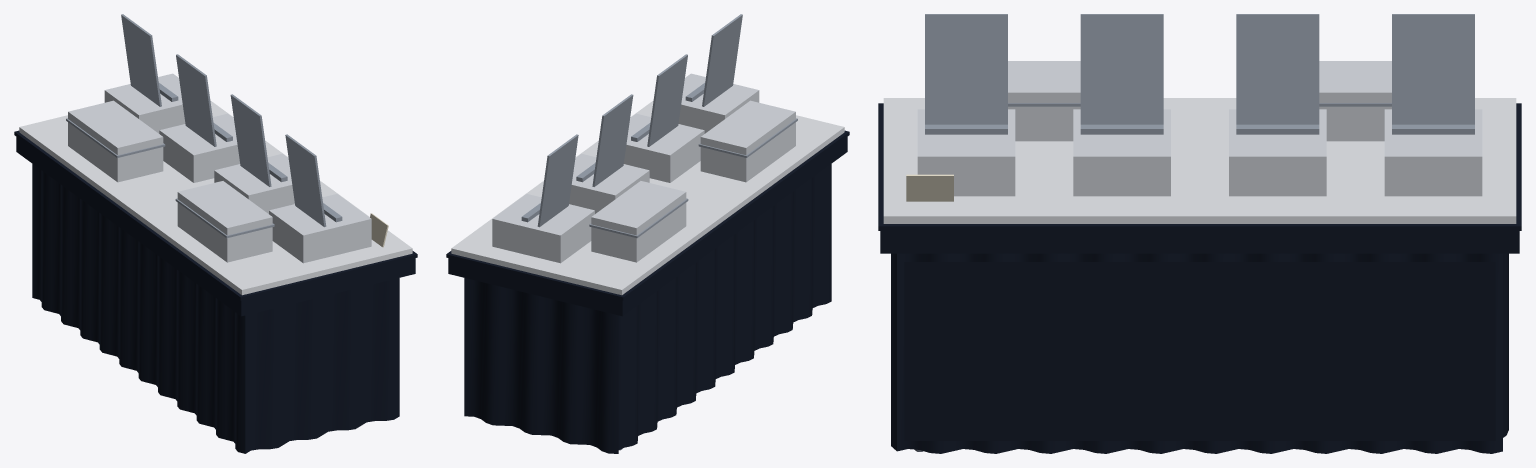
The model's file is table.glb.
The picture shows the model from 3 angles, left to right: view 1: azimuth 30°, elevation 25°; view 2: azimuth 150°, elevation 25°; view 3: azimuth 270°, elevation 25°; orthographic projection. The views are drawn at different scales.
Visible parts, largest first — view 1: skirt, product, top, trim, paper; view 2: skirt, product, top, trim; view 3: skirt_front, trim, skirt, top, product, paper.
Part boxes in pixels (x1,y1,x2,y2): skirt: (14,130,417,453); product: (68,73,371,263); top: (19,100,412,295); trim: (66,14,342,237); paper: (370,213,388,247); skirt: (446,130,849,453); product: (492,73,795,263); top: (451,100,844,295); trim: (521,14,797,237); skirt_front: (904,262,1495,440); trim: (925,14,1474,134); skirt: (878,103,1521,453); top: (883,98,1516,223); product: (917,61,1482,196); paper: (906,174,953,201).
Size of the model in its own units: 2.8 by 4.14 by 6.2.
